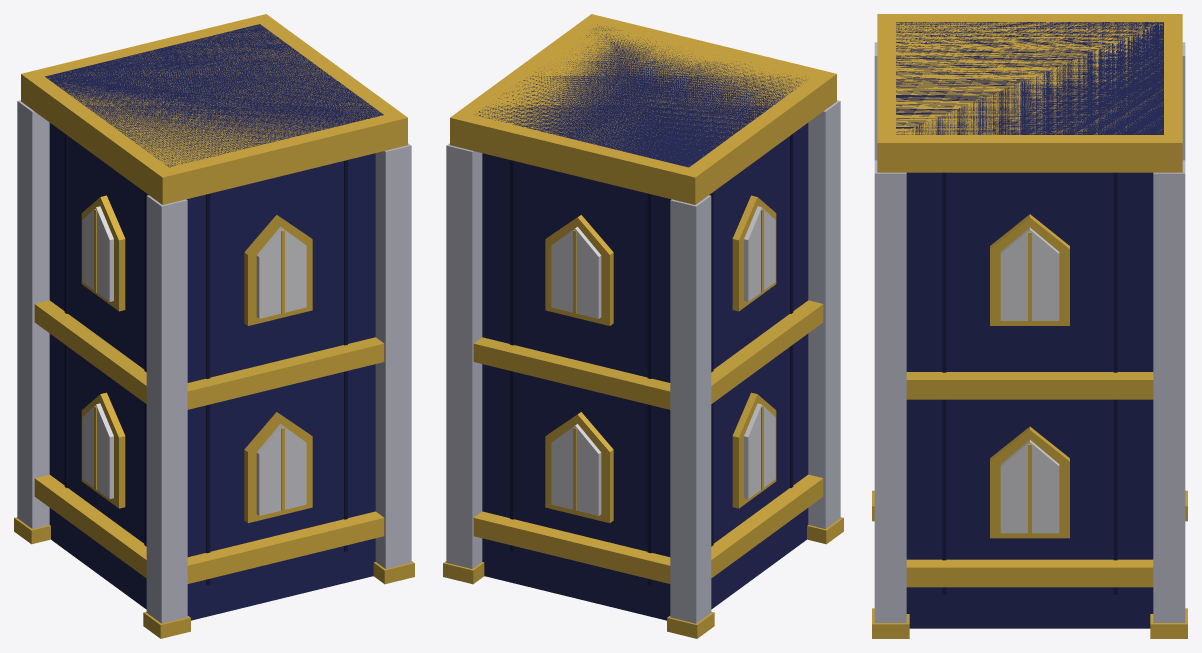
Rendered from Decor_ClockTower_TowerShaft.fbx.
3 views of the same model, side by side, from view 1: azimuth 30°, elevation 25°; view 2: azimuth 150°, elevation 25°; view 3: azimuth 270°, elevation 25° (orthographic). The views are drawn at different scales.
Visible parts, largest first — view 1: TowerShaft_Body; view 2: TowerShaft_Body; view 3: TowerShaft_Body.
Part boxes in pixels (x1,y1,x2,y2): TowerShaft_Body: [14, 14, 414, 638]; TowerShaft_Body: [443, 14, 843, 638]; TowerShaft_Body: [872, 14, 1187, 638].
Bounding box in the file's own units: 11.6 × 20 × 11.6.
